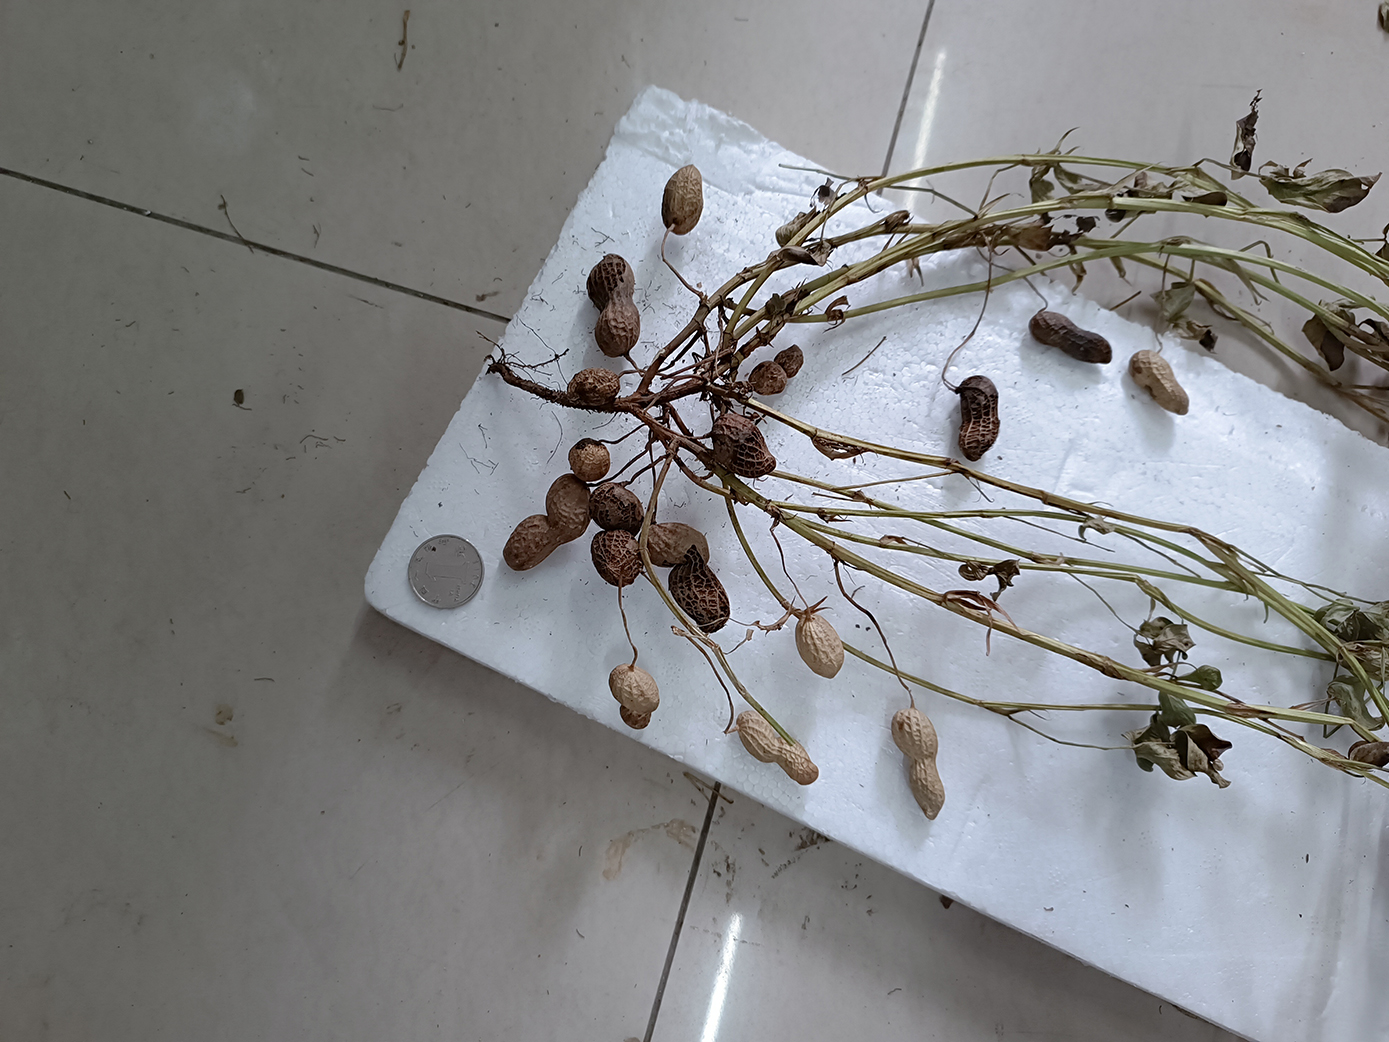h: (502, 473, 592, 571), (736, 709, 820, 786), (891, 707, 946, 821), (1128, 349, 1190, 416), (607, 663, 660, 730), (795, 613, 844, 678), (661, 164, 704, 236), (567, 437, 611, 482)
l: (640, 522, 731, 633), (584, 253, 641, 358), (589, 482, 643, 588), (1028, 311, 1112, 364), (711, 413, 777, 479), (956, 375, 1000, 462), (746, 343, 805, 395), (566, 366, 620, 404)
